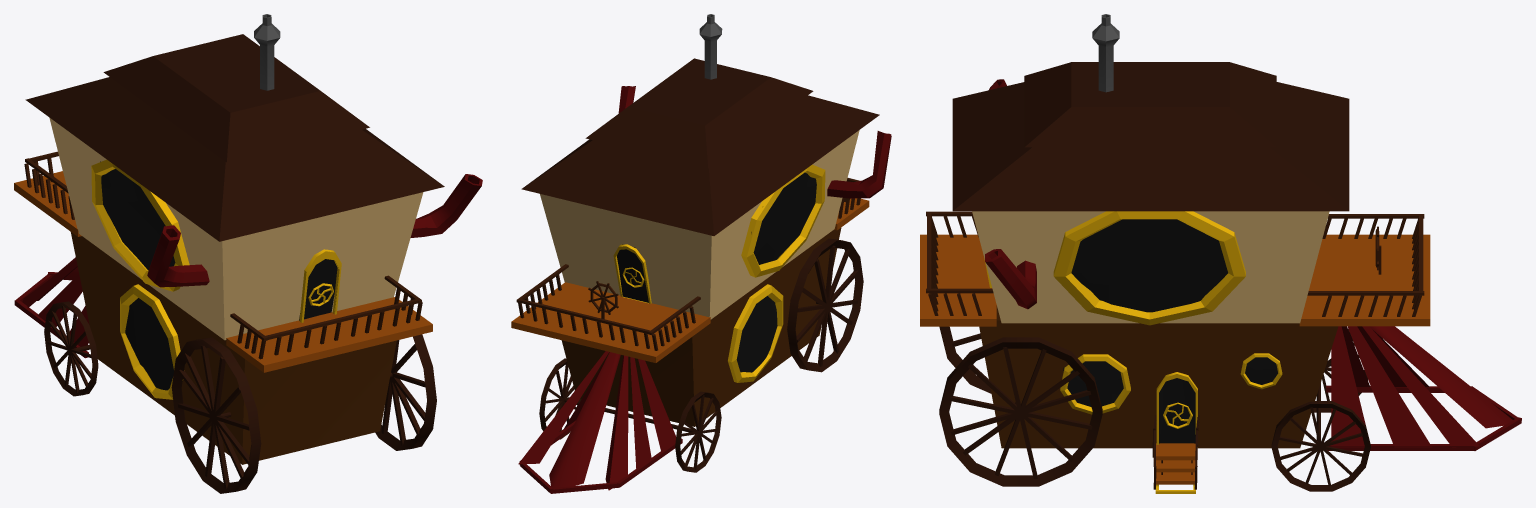
File: steam_car.fbx
3 views of the same model, side by side, from view 1: azimuth 30°, elevation 25°; view 2: azimuth 150°, elevation 25°; view 3: azimuth 270°, elevation 25° (orthographic). The views are drawn at different scales.
Visible parts, largest first — view 1: polySurface2; view 2: polySurface2; view 3: polySurface2.
Boxes of the visible parts, left/top/right/bottom form: polySurface2: left=14, top=14, right=482, bottom=493; polySurface2: left=511, top=14, right=891, bottom=493; polySurface2: left=920, top=14, right=1521, bottom=493.
Bounding box in the file's own units: 25.52 × 32.83 × 40.68.
